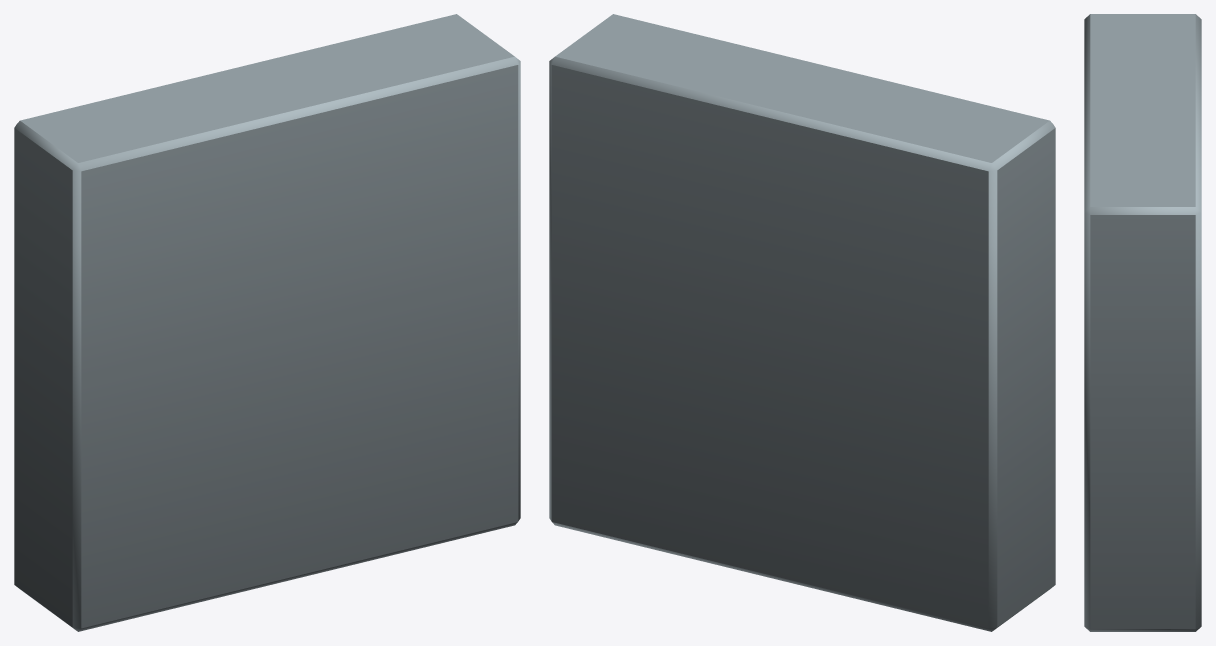
File: Primitive_Wall.fbx
3 renders of one model, left to right at view 1: azimuth 30°, elevation 25°; view 2: azimuth 150°, elevation 25°; view 3: azimuth 270°, elevation 25°, orthographic. The views are drawn at different scales.
Parts seen in each view (by area): view 1: Primitive_Wall; view 2: Primitive_Wall; view 3: Primitive_Wall.
Part boxes in pixels (box(x1,y1,x2,y2)): Primitive_Wall: box(14, 14, 520, 631); Primitive_Wall: box(549, 14, 1055, 631); Primitive_Wall: box(1084, 14, 1201, 631).
Size of the model in its own units: 4 by 4 by 1.
